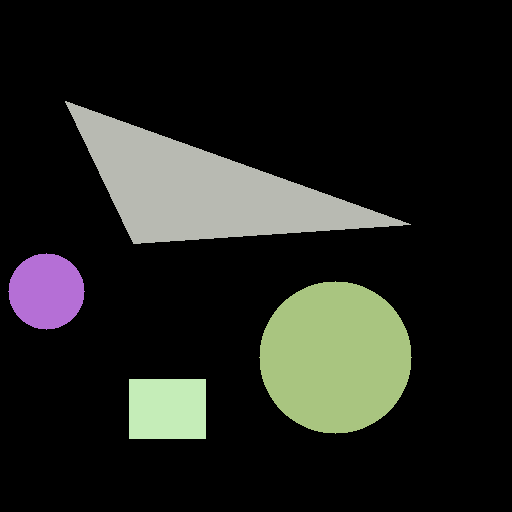circle: (259, 281, 411, 433), (8, 253, 84, 329)
rectangle: (129, 379, 205, 438)
triangle: (65, 101, 410, 243)
